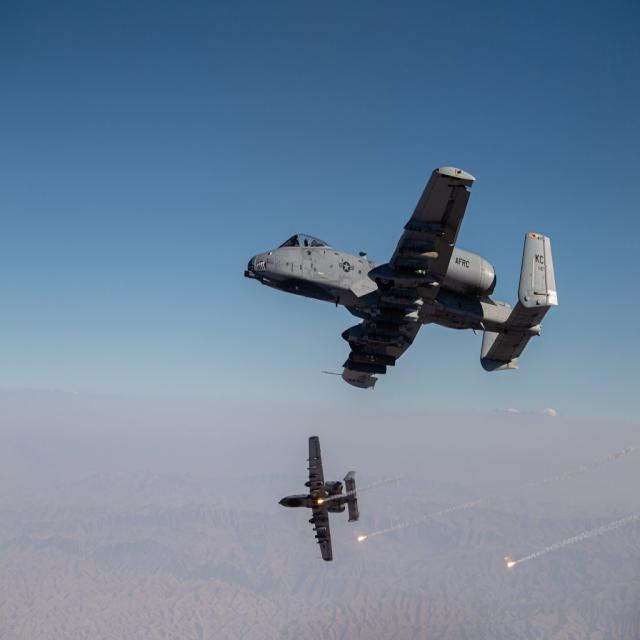MIL_Plane: (244, 166, 558, 390), (278, 434, 361, 562)
